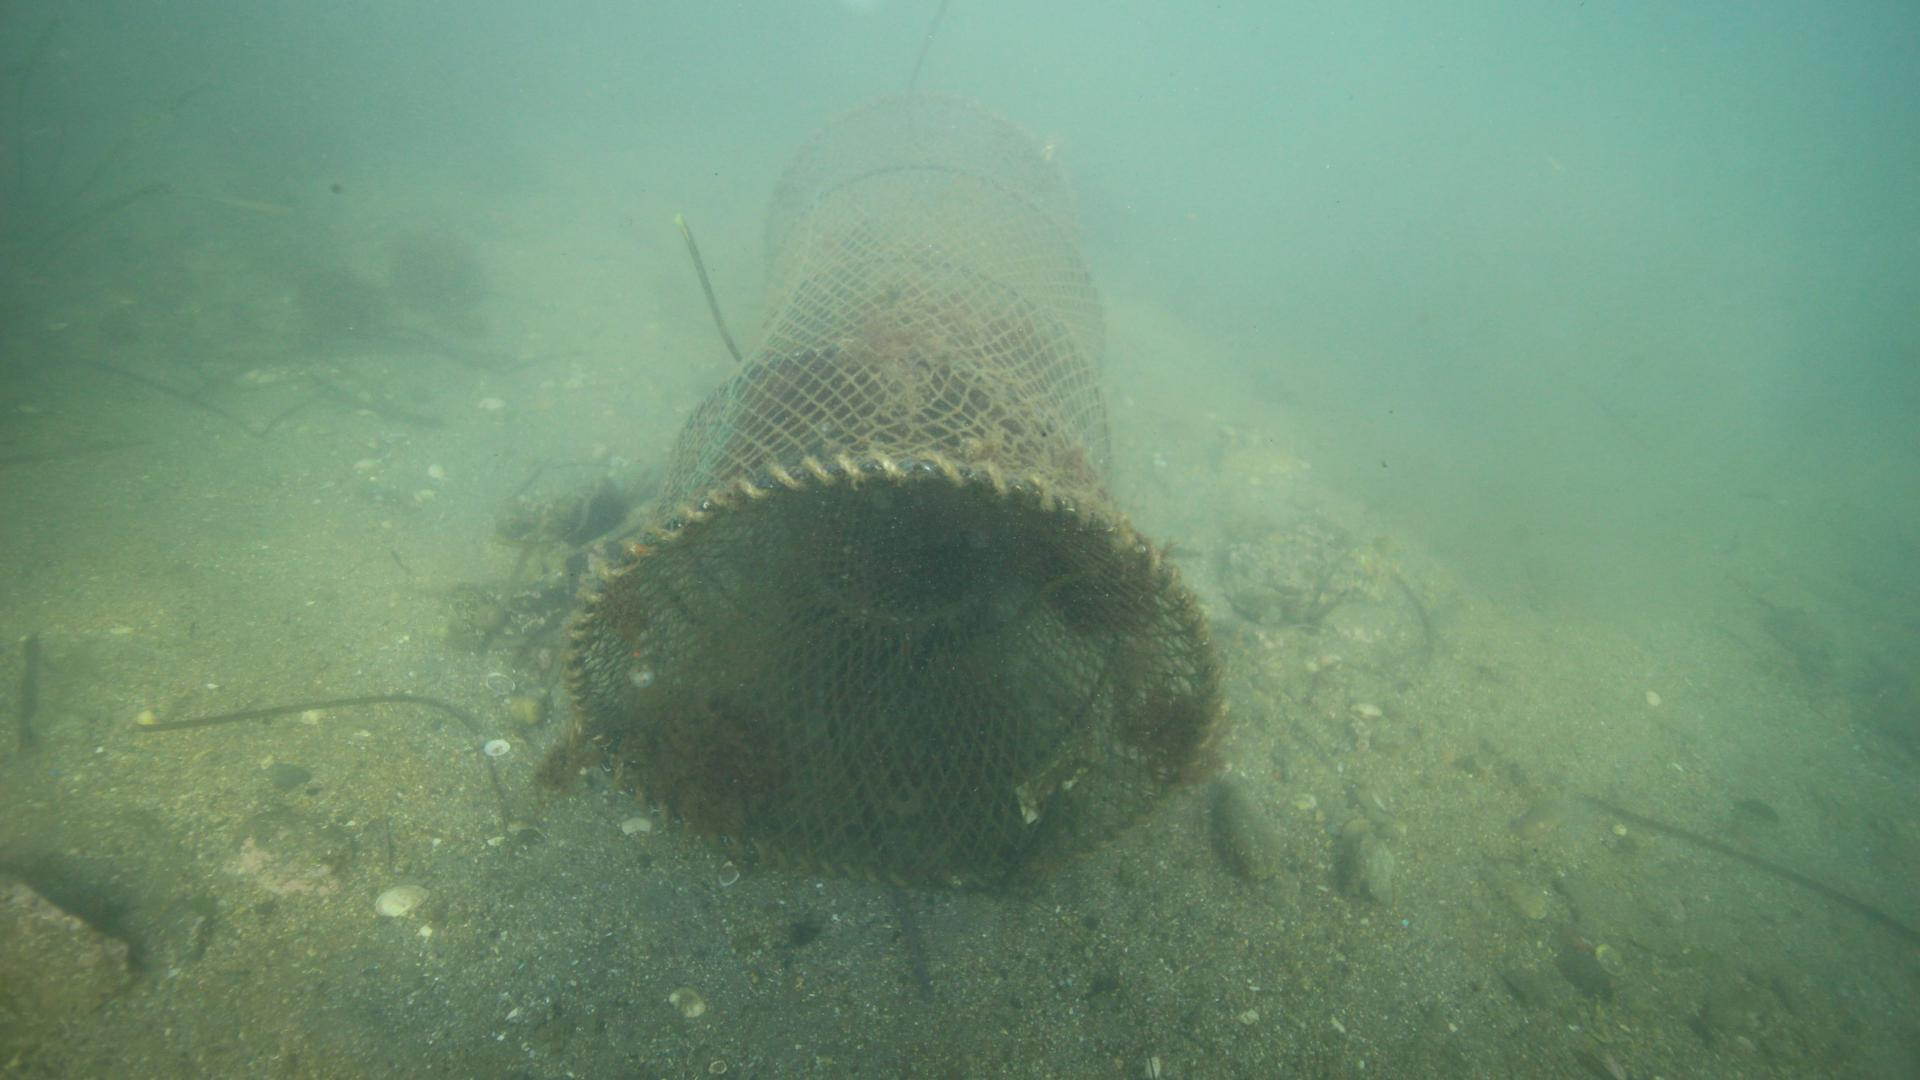spring fish trap: (559, 91, 1218, 885)
